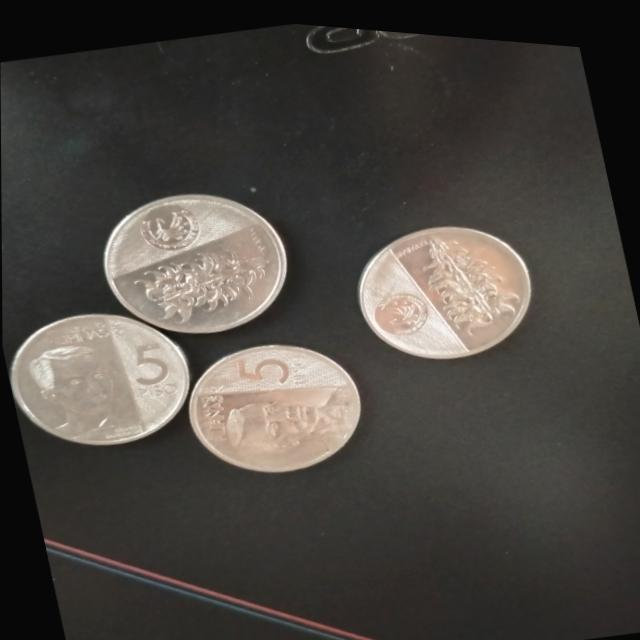5_New_Back: (123, 225, 283, 332), (412, 210, 525, 340)
5_New_Front: (209, 329, 311, 403), (124, 326, 188, 401)
